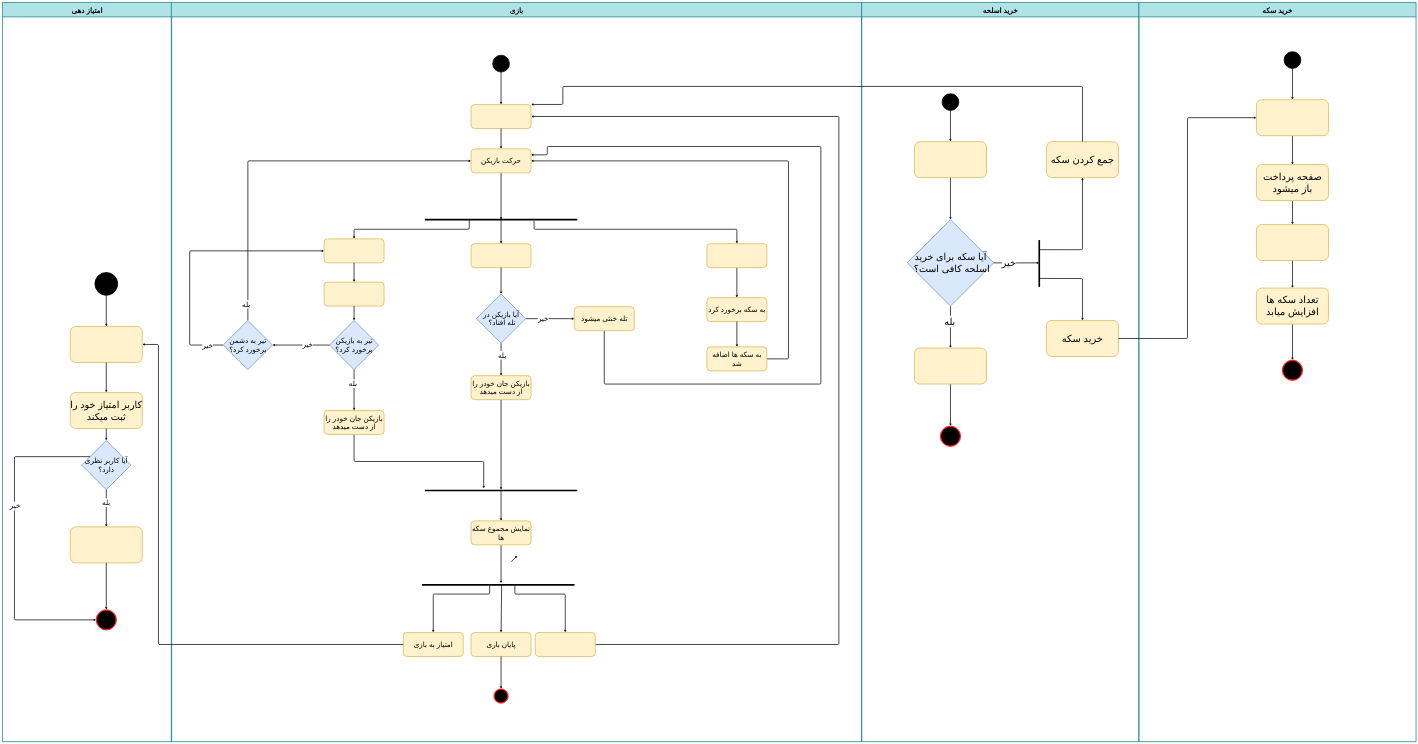
Image size: 1418x744. Some labels were removed from this diagram. The box of each missing label's shape, as (x1, y1, x2, y2) in pixels:
استفاده از اسلحه: (324, 282, 384, 306)
اسلحه خریده میشود: (914, 348, 987, 384)
اسلحه مورد نظر جهت خرید انتخاب میشود: (914, 141, 987, 178)
با دشمن درگیر میشود: (324, 238, 384, 263)
تله یافت شد: (471, 243, 531, 268)
دوباره بازی کردن: (535, 632, 596, 657)
سکه یافت شد: (706, 243, 767, 268)
شروع بازی: (471, 104, 531, 129)
مقدار سکه جهت خرید انتخاب میشود: (1256, 99, 1329, 136)
کاربر مبلغ را پرداخت میکند: (1256, 224, 1329, 261)
کاربر نظر خود را ثبت میکند: (70, 526, 143, 563)
گوگل پلی باز میشود: (70, 326, 143, 363)
